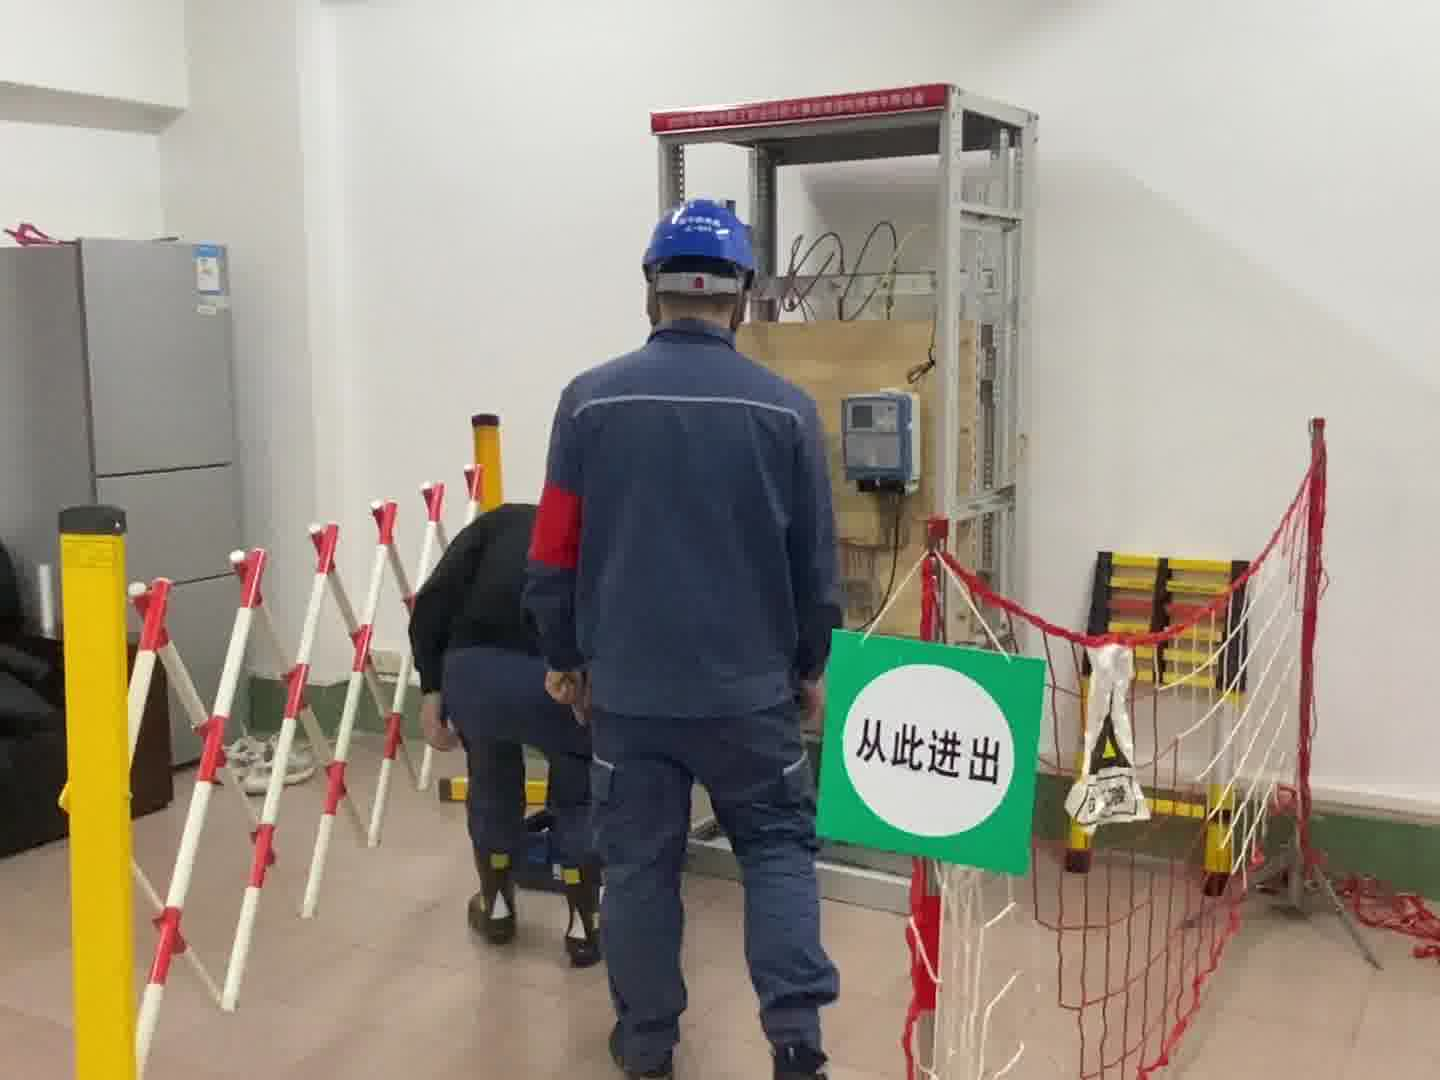badge: (528, 484, 587, 572)
downsuit: (576, 718, 844, 1039), (448, 669, 586, 850)
halt: (638, 197, 762, 329)
hand: (419, 693, 463, 757), (545, 666, 588, 711), (802, 675, 824, 716)
intosign: (802, 618, 1061, 880)
person: (521, 193, 845, 1080), (401, 501, 600, 972)
shoe: (461, 829, 604, 962)
upcloth: (401, 504, 535, 694)
upsuit: (519, 316, 843, 715)
